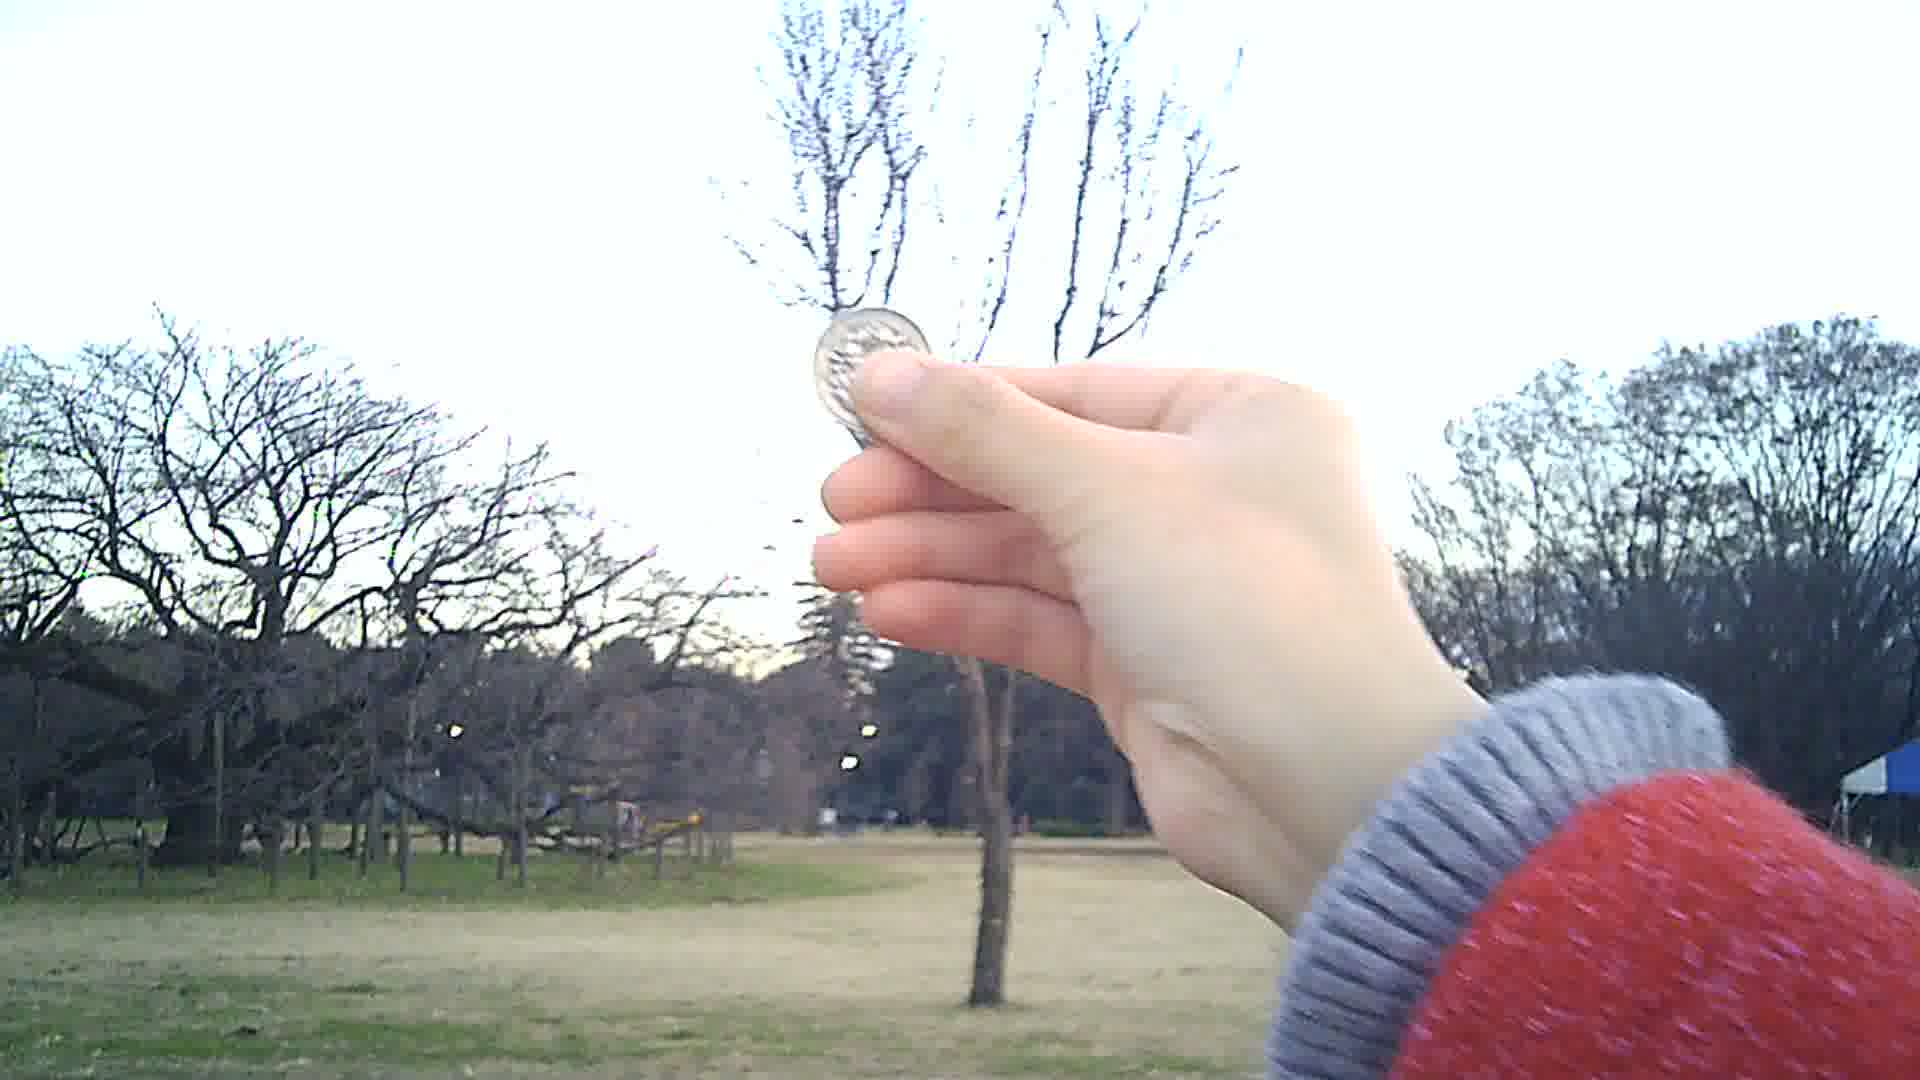100 Yen: (810, 305, 938, 440)
